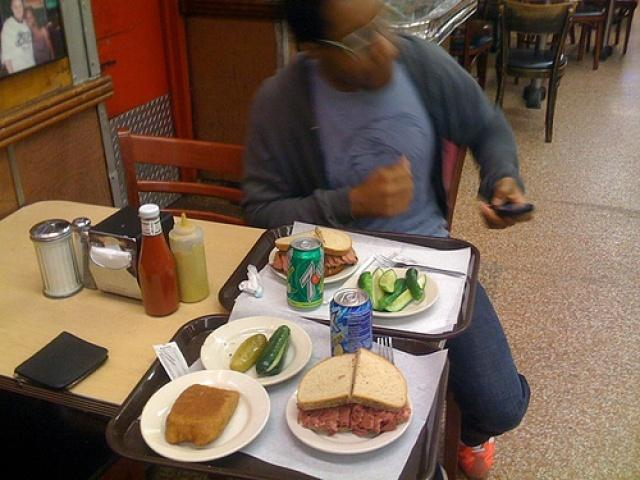Kursi: (492, 0, 577, 143)
